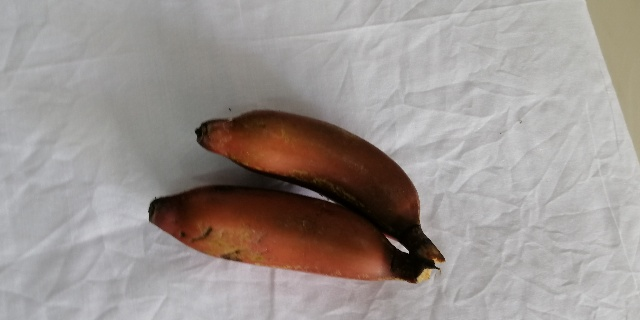banana_red: (195, 110, 452, 263), (148, 185, 439, 284)
